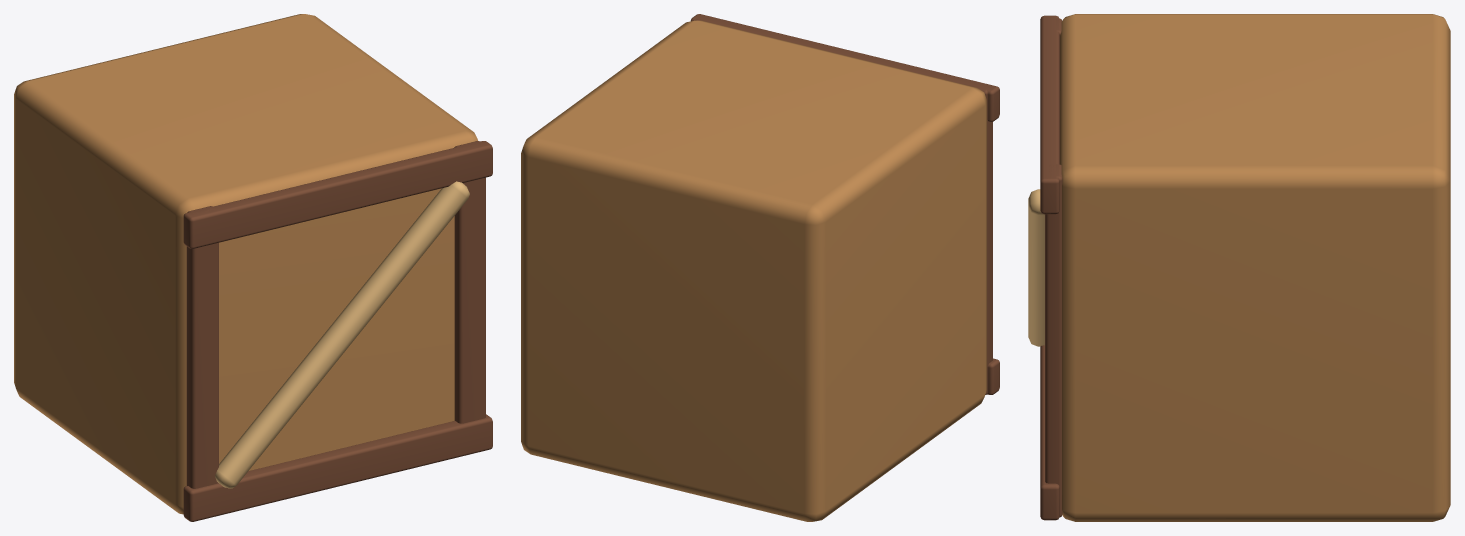
File: Crate.fbx
3 renders of one model, left to right at view 1: azimuth 30°, elevation 25°; view 2: azimuth 150°, elevation 25°; view 3: azimuth 270°, elevation 25°, orthographic. The views are drawn at different scales.
Parts seen in each view (by area): view 1: Crate_Static; view 2: Crate_Static; view 3: Crate_Static.
Part boxes in pixels (bbox=[...]): Crate_Static: bbox=[14, 14, 492, 521]; Crate_Static: bbox=[521, 14, 999, 521]; Crate_Static: bbox=[1028, 14, 1450, 521].
Size of the model in its own units: 1 by 1 by 1.08.
Materials: 1 (1 with a texture image).
